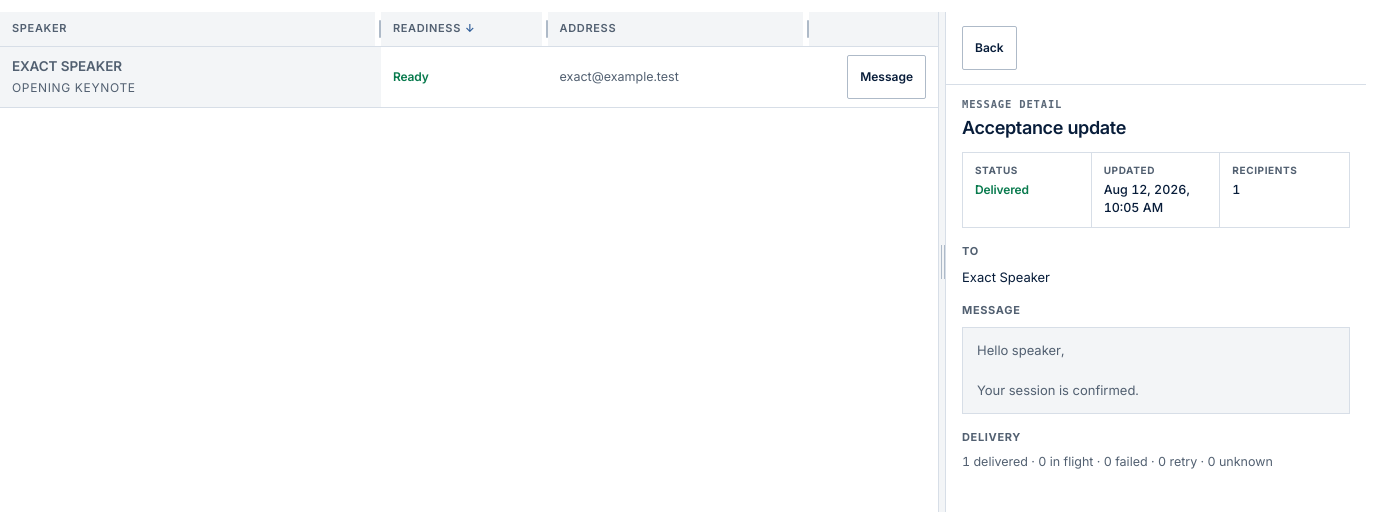
Test: Messages history inspector › opens focused communication history detail without Course Check chrome
Expected: the heading "Acceptance update" is shown, [962,117,1126,138]
Expected: the text "Exact Speaker" is shown, [12,58,122,74]
Click the button "Back" at (989, 48), box [962,26,1017,70]
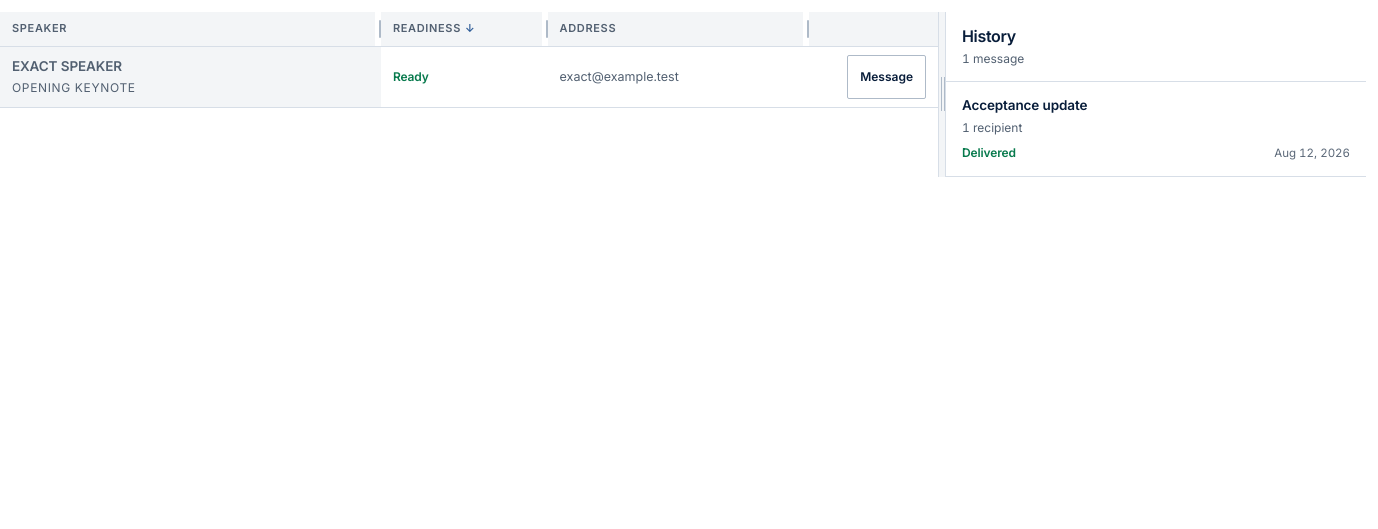
Expected: the text "Acceptance update" is shown, [962,97,1087,113]
Now the heading "History" is shown, box [962,26,1024,46]
